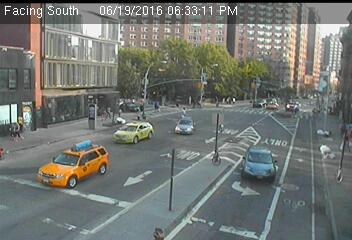neg: (53, 76, 73, 102), (252, 134, 271, 161), (275, 109, 293, 133), (82, 49, 98, 71), (61, 168, 77, 189), (55, 127, 70, 147), (207, 164, 221, 183), (275, 53, 289, 71), (103, 183, 115, 199), (238, 77, 249, 93), (150, 37, 161, 53), (148, 162, 157, 174)
pos: (5, 115, 24, 141), (185, 90, 203, 114), (98, 99, 115, 121), (147, 95, 162, 115), (211, 90, 226, 110), (177, 104, 189, 120)
